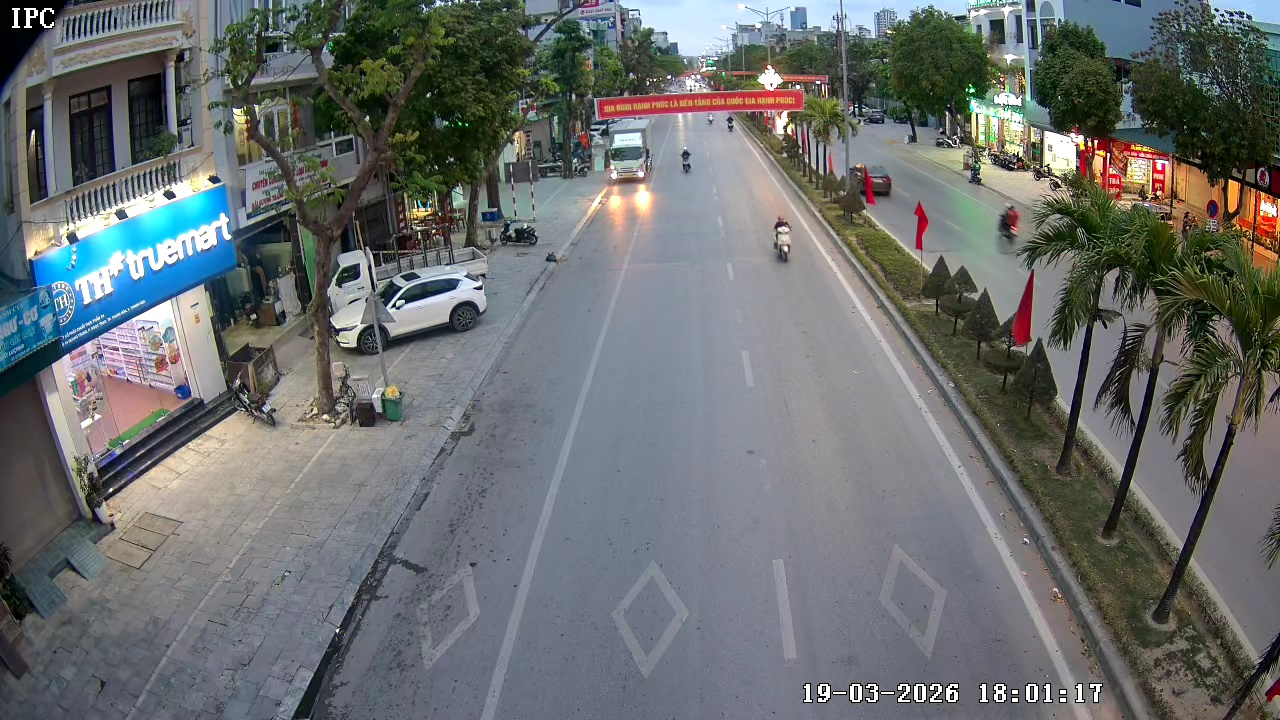car: (331, 265, 488, 353)
motorbike: (770, 213, 794, 264), (679, 145, 694, 175)
truck: (606, 112, 657, 181)
